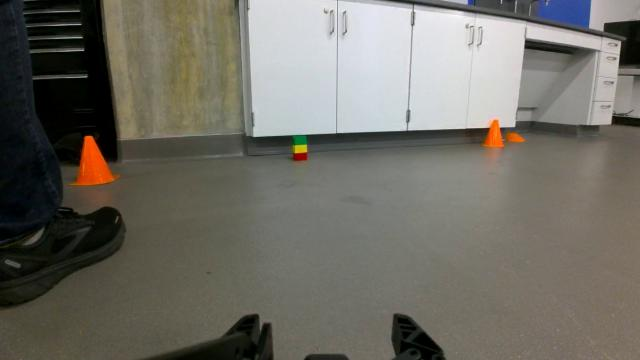lego: (289, 129, 312, 166)
